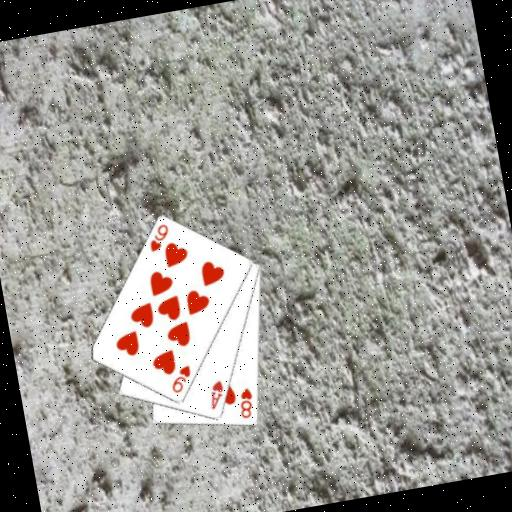8H: (233, 384, 257, 421)
9H: (165, 362, 195, 396), (143, 220, 173, 254)
AH: (203, 376, 228, 411)
